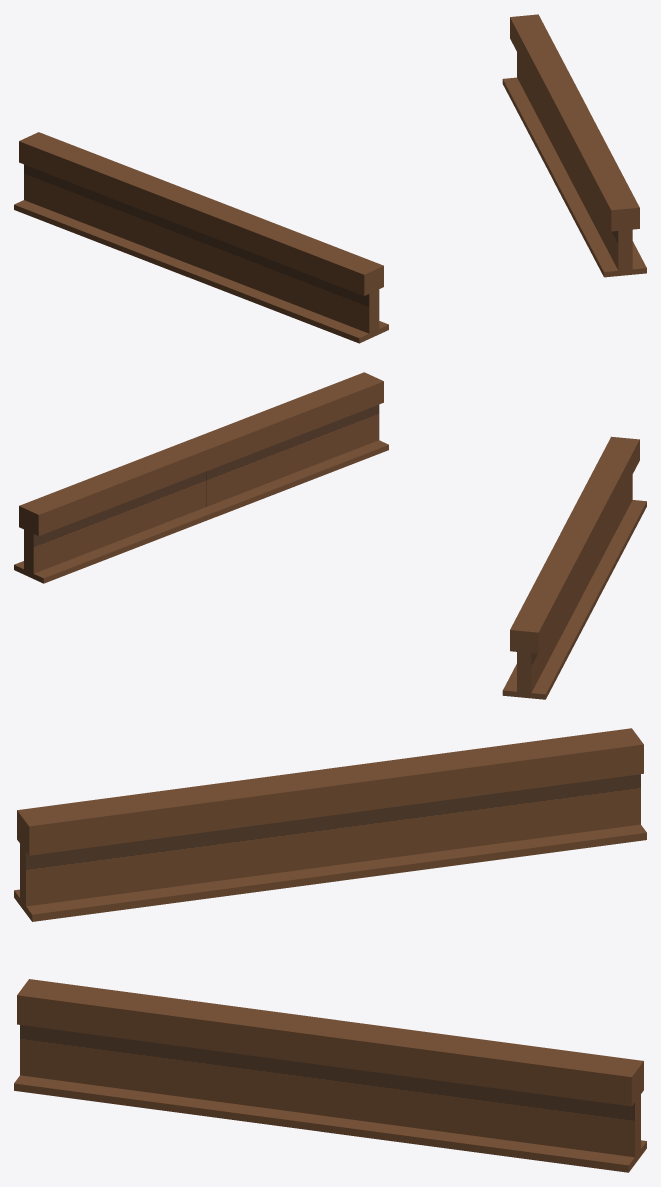
File: counterrail_end.obj
3 views of the same model, one above another, from view 1: azimuth 30°, elevation 25°; view 2: azimuth 150°, elevation 25°; view 3: azimuth 270°, elevation 25° (orthographic). The views are drawn at different scales.
Parts seen in each view (by area): view 1: cube; view 2: cube; view 3: cube.
Part boxes in pixels (left/top/right/bottom): cube: left=14, top=14, right=646, bottom=343; cube: left=14, top=372, right=646, bottom=699; cube: left=14, top=728, right=646, bottom=1172.
Size of the model in its own units: 1.31 by 0.1562 by 0.98.
1 material, 1 textured.
